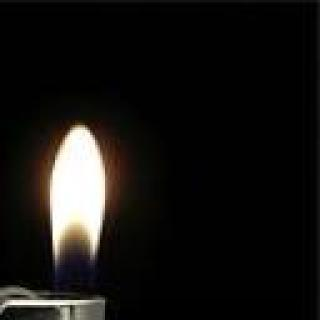fire: (50, 124, 108, 266)
